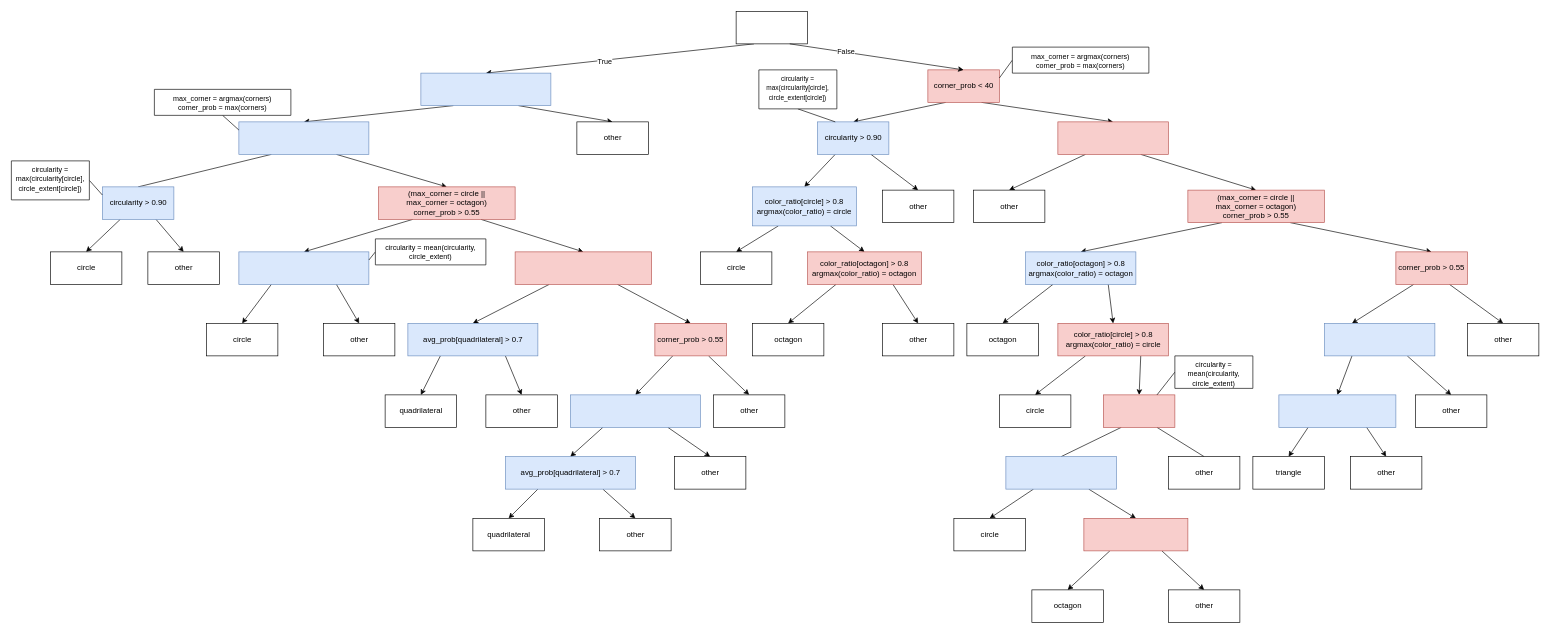
The diagram is 1550 pixels wide and 634 high, and some of its shapes have lost their labels. Here are the shapes that lost their labels. From the top down, the centre of each, then its label:
(x=771, y=27): roi_type = "blue"
(x=485, y=89): (argmax(color_ratio) = circle || argmax(color_ratio) = quadrilateral)
(x=303, y=137): corner_prob < 0.40
(x=1112, y=137): max_corner = quadrilateral
(x=303, y=267): (argmax(circularity) = circle|| argmax(circularity) = octagon)
(x=583, y=267): max_corner = quadrilateral corner_prob > 0.55
(x=1379, y=339): (argmax(color_ratio) = circle || argmax(color_ratio) = triangle)
(x=635, y=410): argmax(avg_prob) = quadrilateral
(x=1139, y=410): circularity > 0.8
(x=1337, y=410): argmax(circle_extent) = triangle
(x=1060, y=472): argmax(circularity) = circle
(x=1135, y=534): argmax(circularity) = octagon
